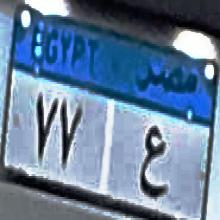7: (61, 99, 82, 172), (35, 93, 56, 162)
ain: (137, 125, 170, 203)
